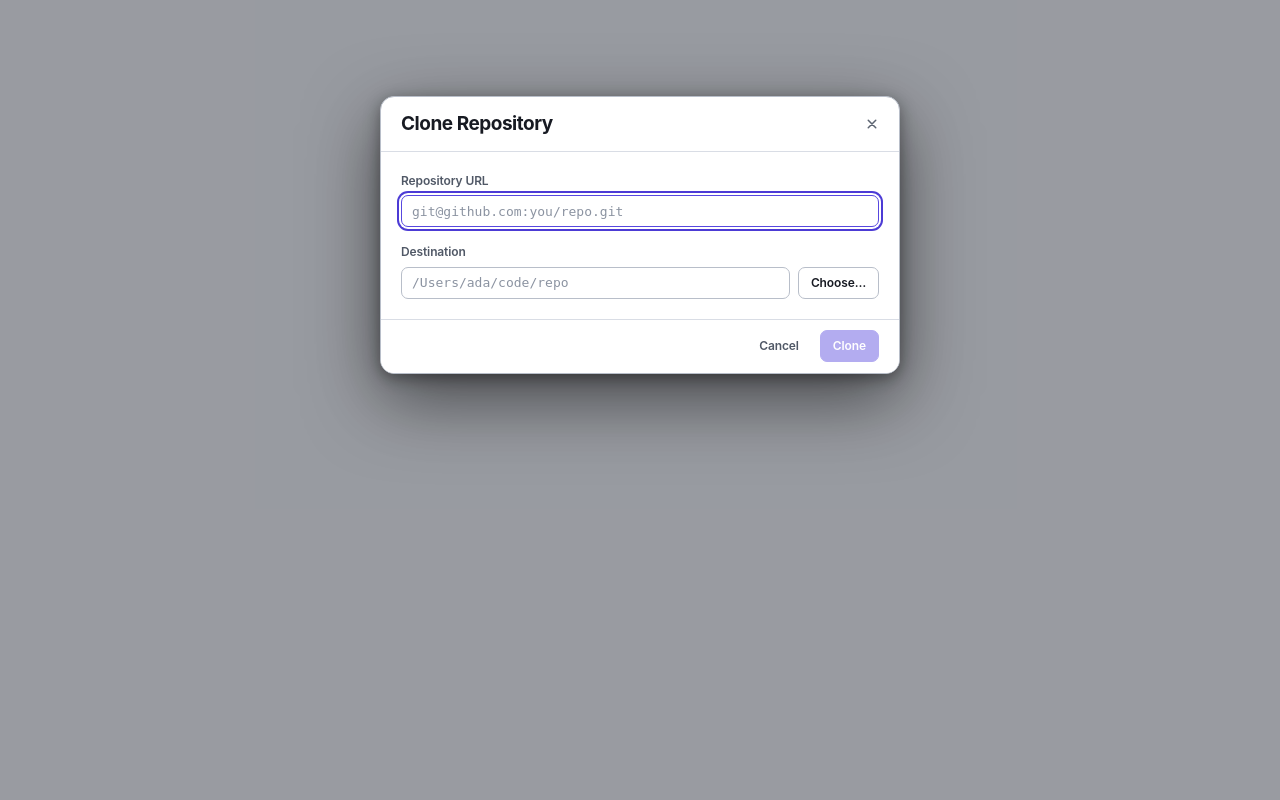
Test: cloning › picks the folder the checkout goes in with Choose…, the repository name still following the URL
Type "git@github.com:acme/api.git" into the field labelled "Repository URL".
click(640, 211); type("git@github.com:acme/api.git")  # box [401,195,879,227]
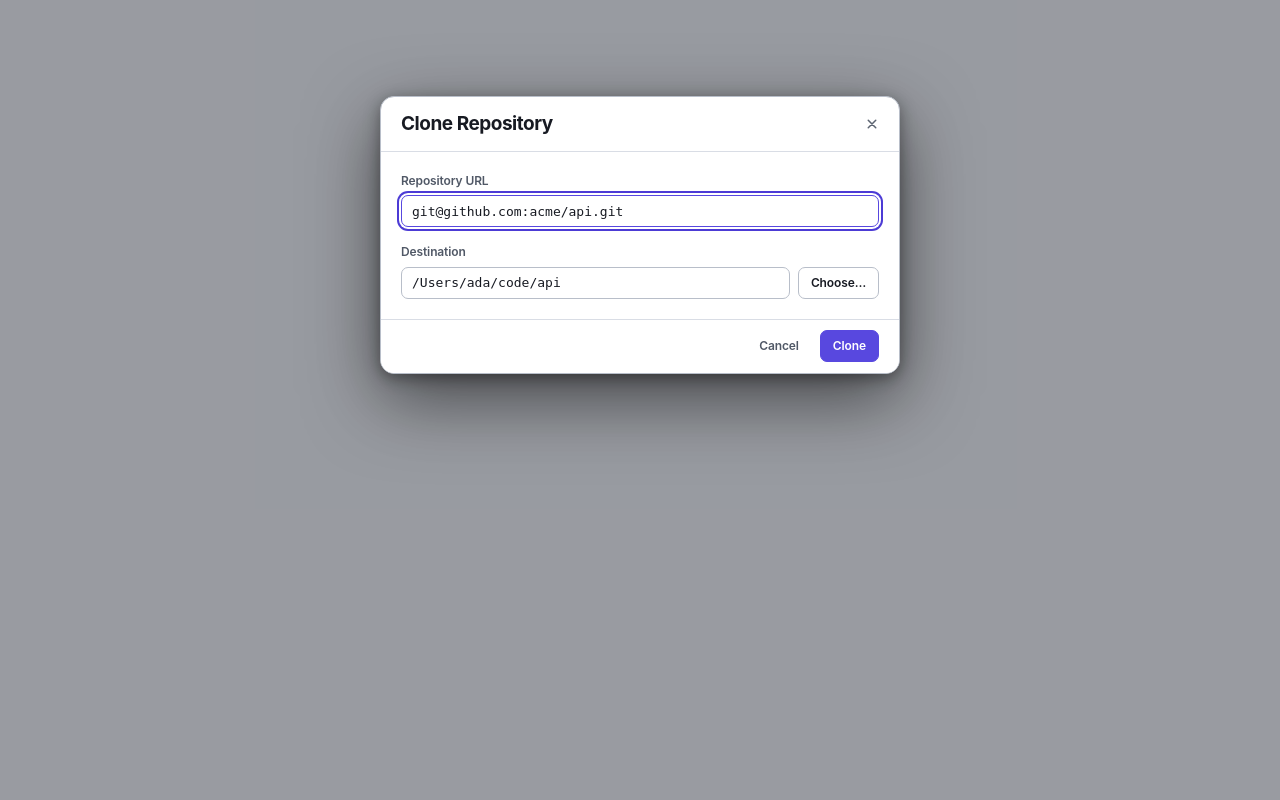
Click the button "Choose…".
click(838, 283)  # box [798,267,879,299]
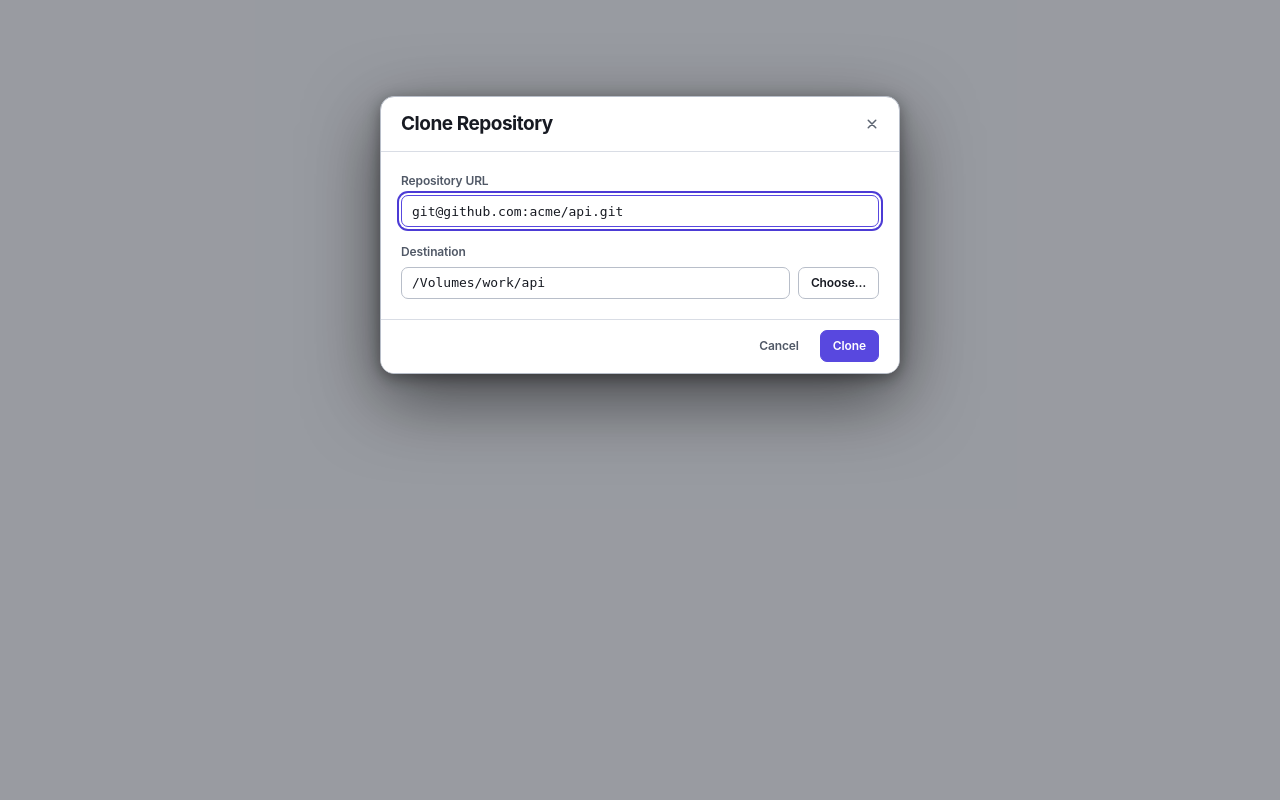
Check: the field labelled "Destination" holds "/Volumes/work/api", box [401,267,790,299]
Replace the text in the field labelled "Repository URL" with "git@github.com:acme/web.git" at (640, 211), box [401,195,879,227]
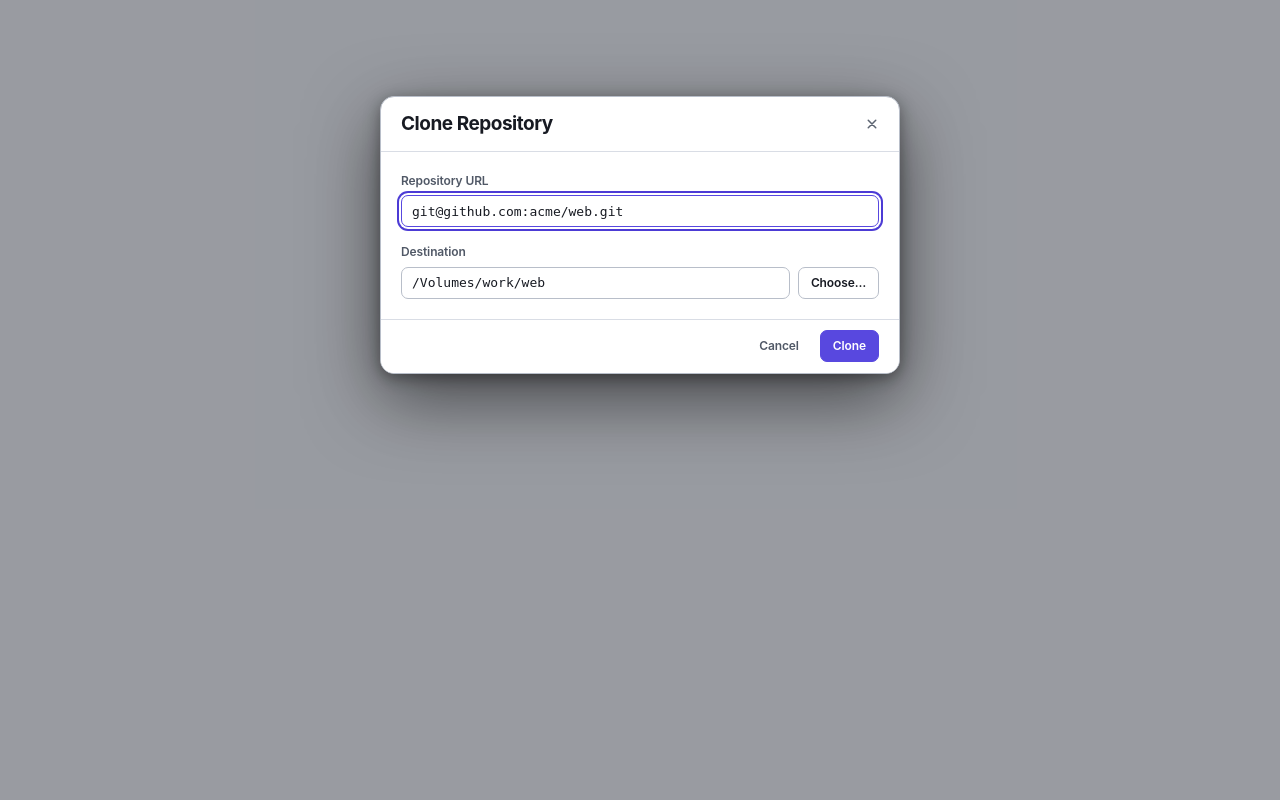
Check: the field labelled "Destination" holds "/Volumes/work/web", box [401,267,790,299]
